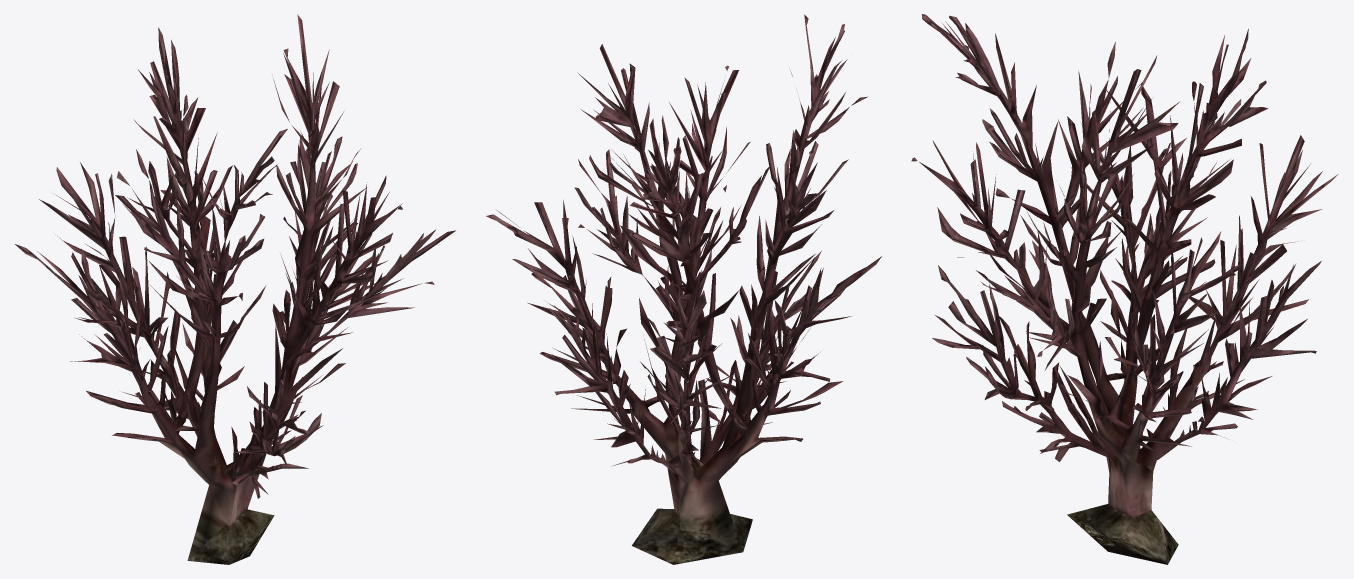
File: zeepluim.glb
3 renders of one model, left to right at view 1: azimuth 30°, elevation 25°; view 2: azimuth 150°, elevation 25°; view 3: azimuth 270°, elevation 25°, orthographic. The views are drawn at different scales.
Parts seen in each view (by area): view 1: tripo_node_d9acdeb5-e4bd-4db6-bb01-d7bfdbb4de8e; view 2: tripo_node_d9acdeb5-e4bd-4db6-bb01-d7bfdbb4de8e; view 3: tripo_node_d9acdeb5-e4bd-4db6-bb01-d7bfdbb4de8e.
Boxes of the visible parts, bbox=[...] form: tripo_node_d9acdeb5-e4bd-4db6-bb01-d7bfdbb4de8e: bbox=[15, 14, 455, 564]; tripo_node_d9acdeb5-e4bd-4db6-bb01-d7bfdbb4de8e: bbox=[486, 14, 881, 564]; tripo_node_d9acdeb5-e4bd-4db6-bb01-d7bfdbb4de8e: bbox=[911, 14, 1338, 564].
Size of the model in its own units: 0.2132 by 0.2973 by 0.2163.
1 material, 1 textured.
